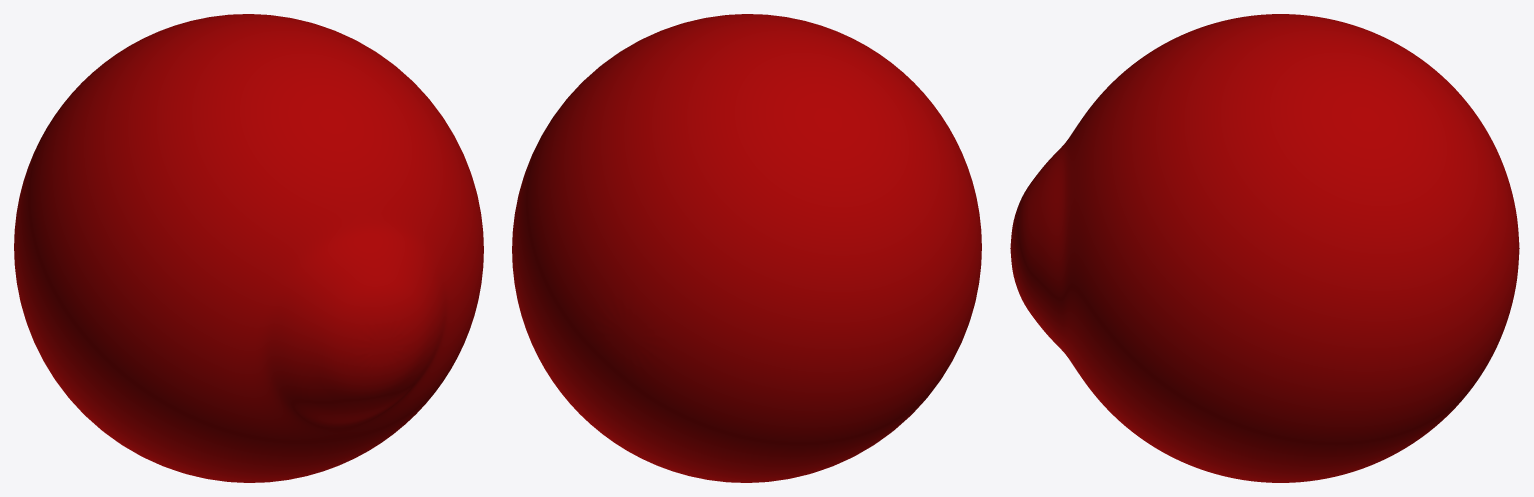
File: Eye_Mesh.fbx
3 views of the same model, side by side, from view 1: azimuth 30°, elevation 25°; view 2: azimuth 150°, elevation 25°; view 3: azimuth 270°, elevation 25° (orthographic).
Visible parts, largest first — view 1: Scalera_Low; view 2: Scalera_Low; view 3: Scalera_Low.
Boxes of the visible parts, left/top/right/bottom form: Scalera_Low: left=14, top=14, right=483, bottom=482; Scalera_Low: left=512, top=14, right=981, bottom=482; Scalera_Low: left=1010, top=14, right=1519, bottom=482.
Size of the model in its own units: 2.36 by 2.36 by 2.56.
